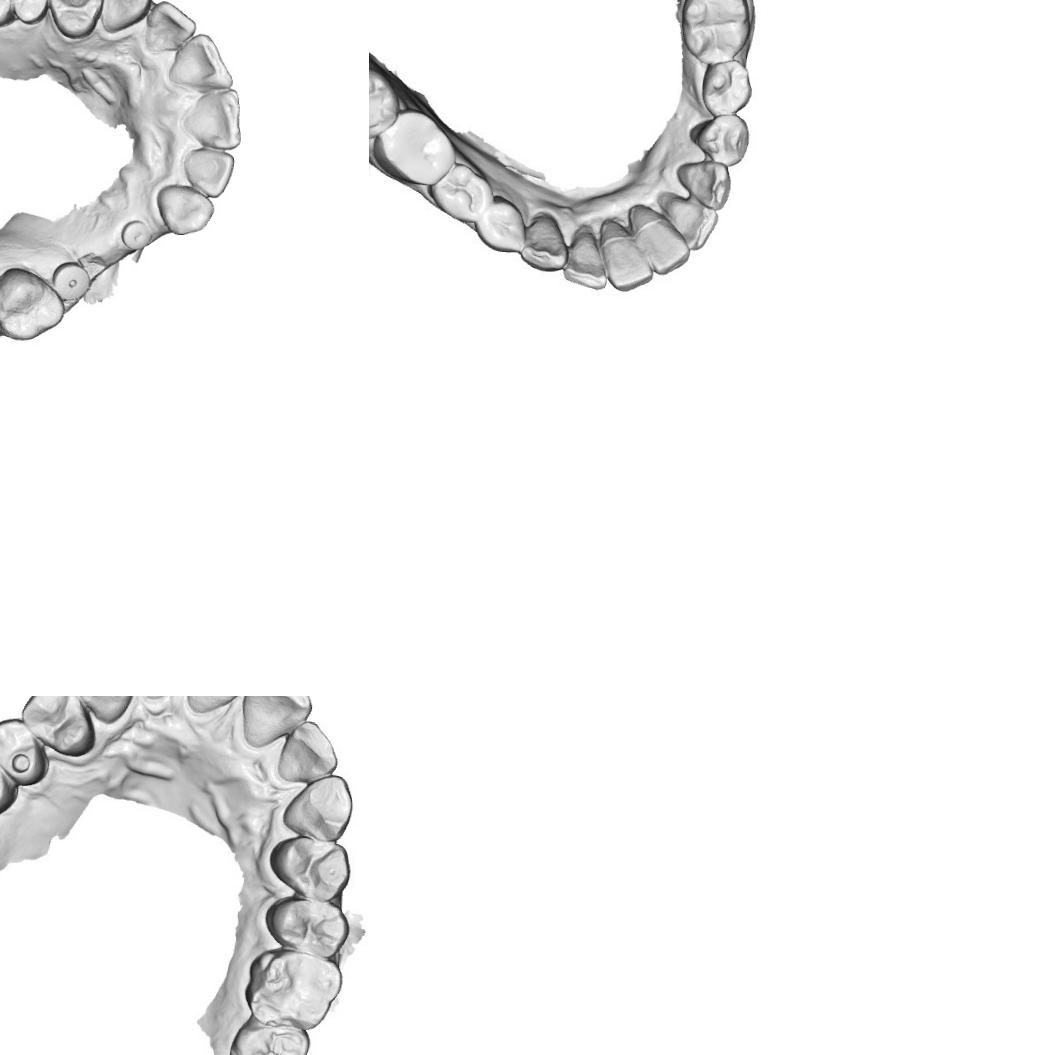canine: (286, 770, 351, 842), (154, 182, 218, 237), (672, 158, 734, 212), (519, 210, 571, 274), (98, 0, 152, 36), (80, 696, 132, 720)
implant: (50, 260, 91, 303), (119, 218, 154, 252)
incisor: (166, 30, 236, 92), (180, 86, 244, 151), (240, 696, 314, 752), (279, 722, 342, 786), (598, 224, 655, 294), (632, 214, 693, 277), (660, 196, 720, 252), (562, 228, 609, 292), (180, 148, 236, 198), (145, 0, 198, 52), (185, 696, 252, 721)
molar: (250, 952, 344, 1032), (370, 105, 459, 189), (0, 264, 67, 343), (678, 0, 755, 65), (225, 1020, 314, 1055), (369, 63, 403, 143)
premolar: (265, 832, 356, 903), (262, 894, 353, 957), (425, 159, 496, 227), (687, 111, 751, 168), (697, 56, 755, 116), (24, 696, 89, 748), (476, 195, 527, 254), (0, 722, 41, 780), (46, 0, 104, 40), (10, 0, 51, 26)
